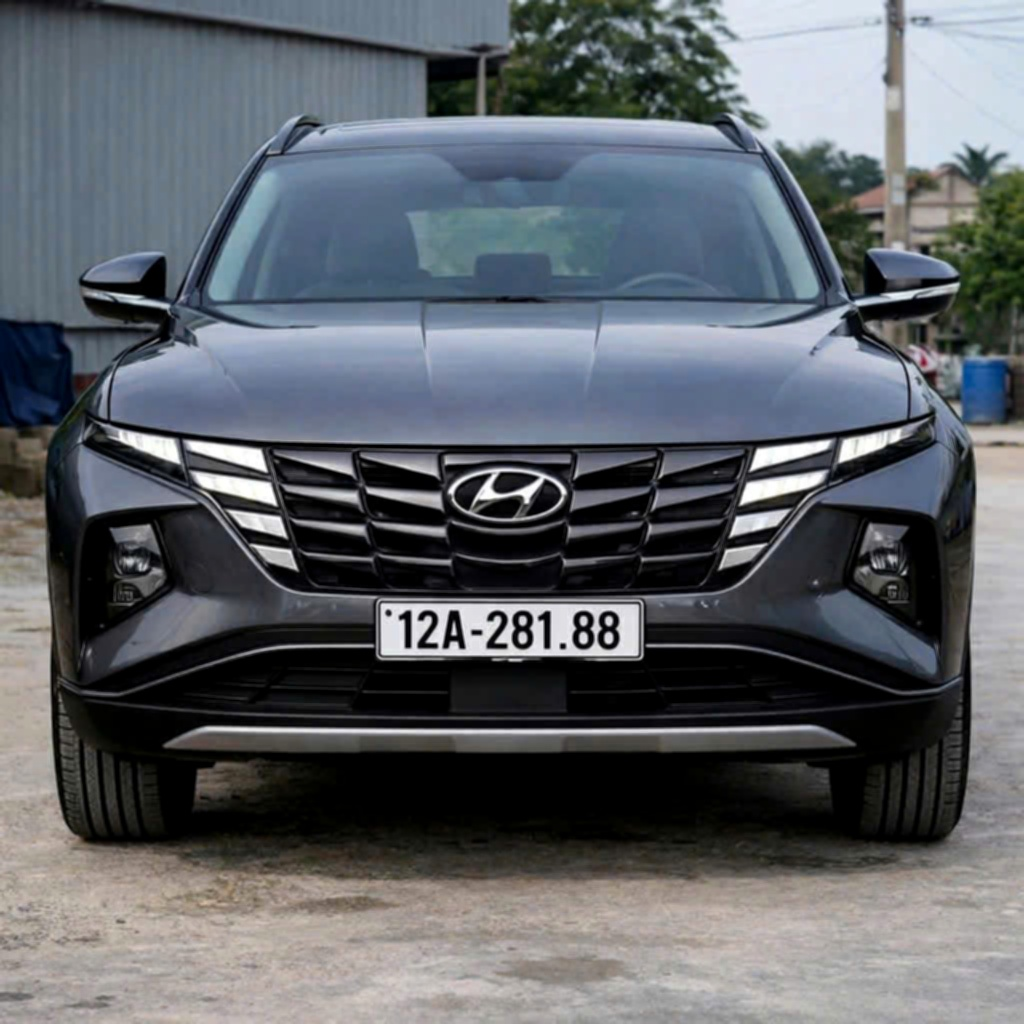Bien-so: (371, 596, 653, 661)
